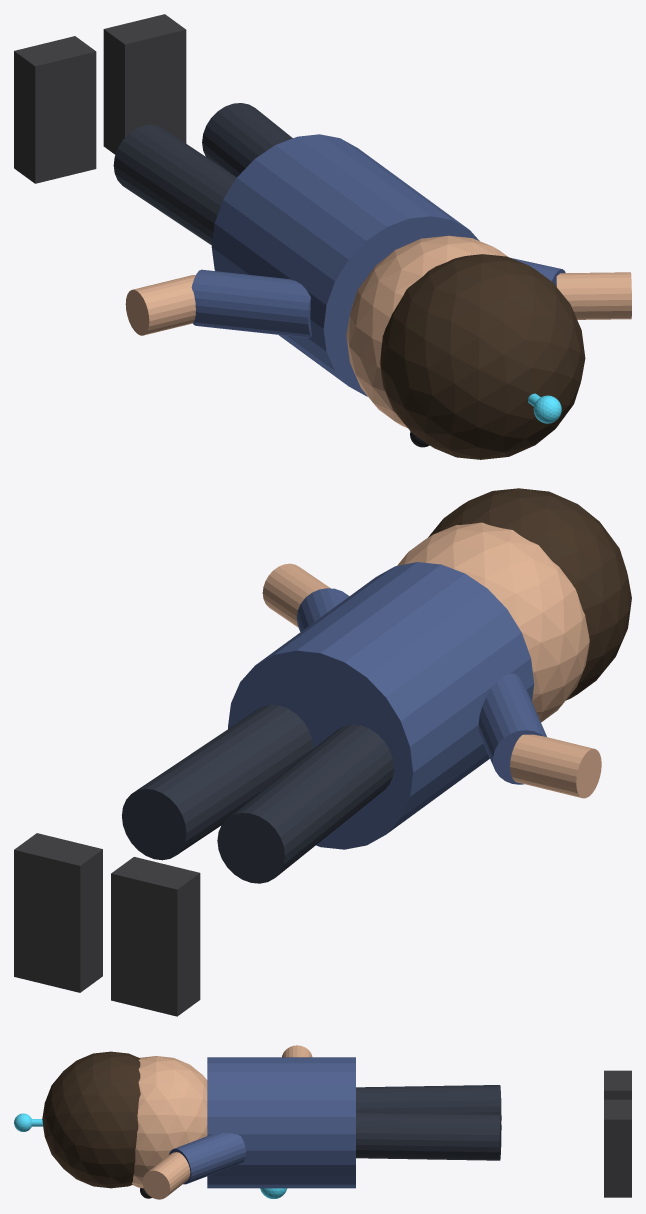
File: Tech_Buddy.glb
3 renders of one model, top to bottom at view 1: azimuth 30°, elevation 25°; view 2: azimuth 150°, elevation 25°; view 3: azimuth 270°, elevation 25°, orthographic. The views are drawn at different scales.
Visible parts, largest first — view 1: hair, torso, shoe.L, shoe.R, leg.L, head, arm.L, leg.R, forearm.L, forearm.R, antenna_tip; view 2: torso, leg.L, leg.R, head, shoe.L, shoe.R, hair, forearm.L, arm.L, forearm.R, arm.R; view 3: torso, hair, leg.R, head, leg.L, shoe.R, arm.R, forearm.R, shoe.L, forearm.L, antenna_tip, badge.
Part boxes in pixels (x1,y1,x2,y2): hair: (380,254,585,459); torso: (211,134,479,396); shoe.L: (14,36,96,183); shoe.R: (103,14,186,154); leg.L: (113,124,236,245); head: (346,235,507,427); arm.L: (191,269,311,337); leg.R: (202,103,292,177); forearm.L: (125,275,195,335); forearm.R: (556,272,631,319); antenna_tip: (533,395,561,423); torso: (228,562,534,849); leg.L: (217,724,393,883); leg.R: (122,704,313,860); head: (397,522,589,722); shoe.L: (111,857,200,1016); shoe.R: (14,833,102,992); hair: (428,488,631,700); forearm.L: (510,734,601,798); arm.L: (478,673,546,784); forearm.R: (262,563,330,627); arm.R: (296,588,349,631); torso: (207,1057,355,1188); hair: (42,1051,140,1188); leg.R: (356,1111,501,1160); head: (132,1056,207,1188); leg.L: (356,1085,501,1120); shoe.R: (604,1099,631,1197); arm.R: (169,1133,245,1184); forearm.R: (142,1152,190,1199); shoe.L: (604,1070,631,1099); forearm.L: (282,1045,312,1057); antenna_tip: (14,1113,31,1131); badge: (260,1188,287,1198).
Size of the model in its own units: 1.95 by 0.99 by 3.95.
